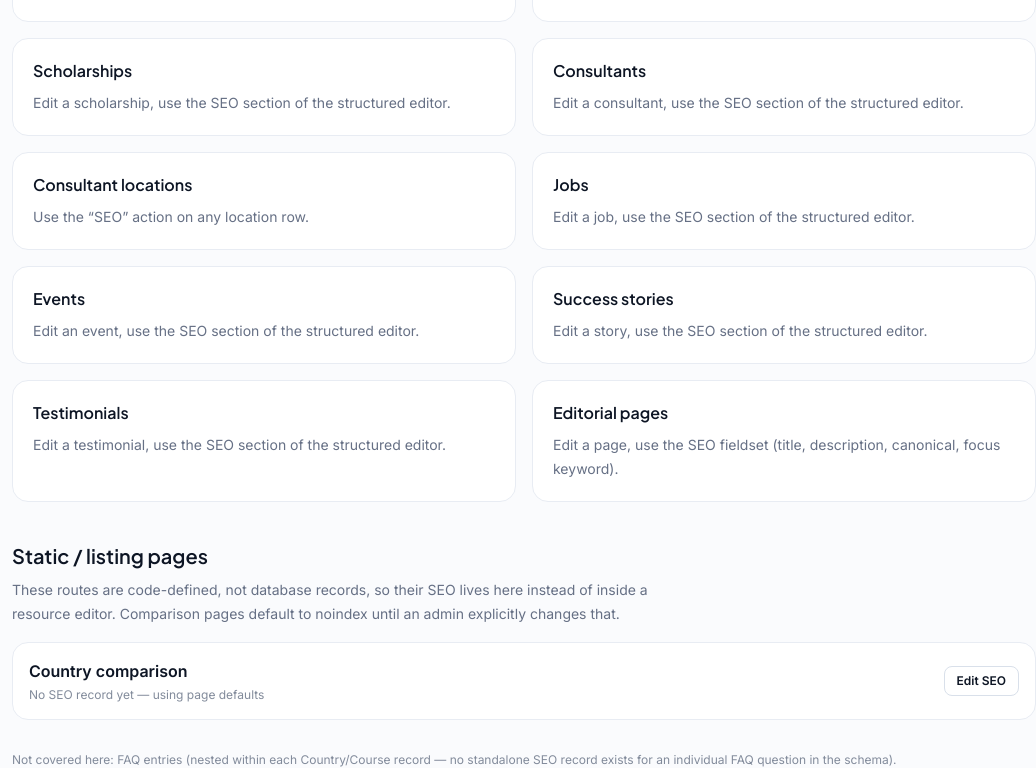
Test: SeoManagementHub static page SEO editor › defaults the indexing checkbox to the page's own default, not always checked
(page scrolled)
Expected: the text "Country comparison" is shown, top-left (29, 661), bottom-right (188, 681)
Step 1. Click the button "Edit SEO" → coordinates (981, 681), box top-left (944, 666), bottom-right (1019, 696)
(page scrolled)
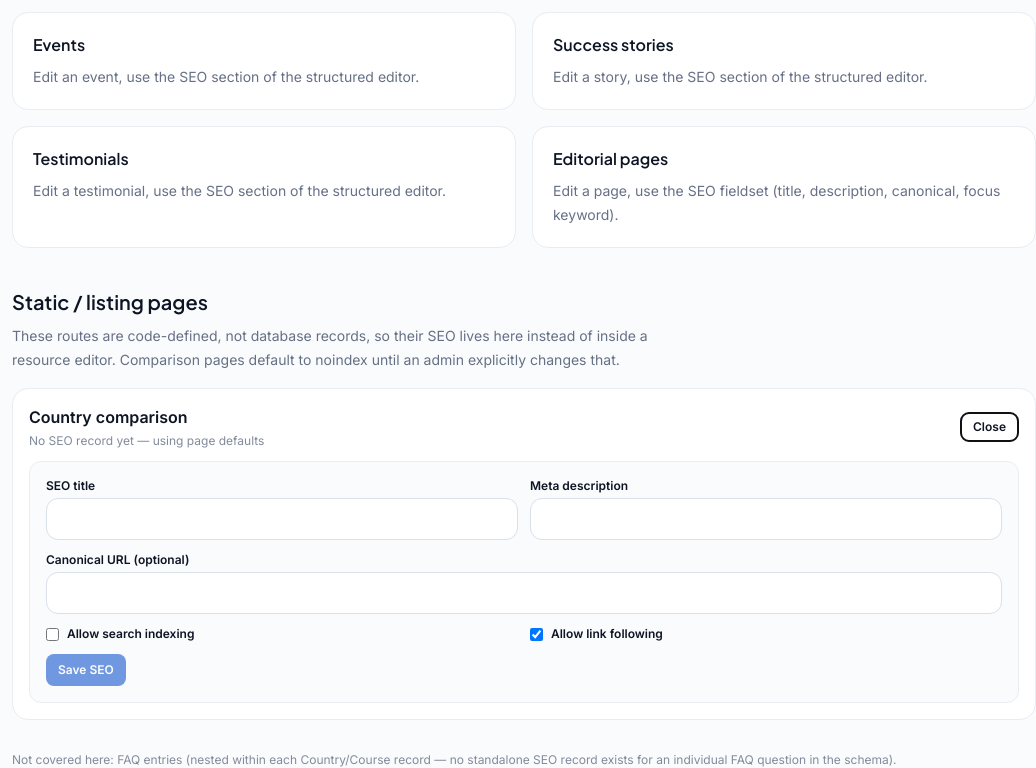
Expected: the checkbox labelled "Allow search indexing" is not checked, top-left (46, 628), bottom-right (59, 640)
